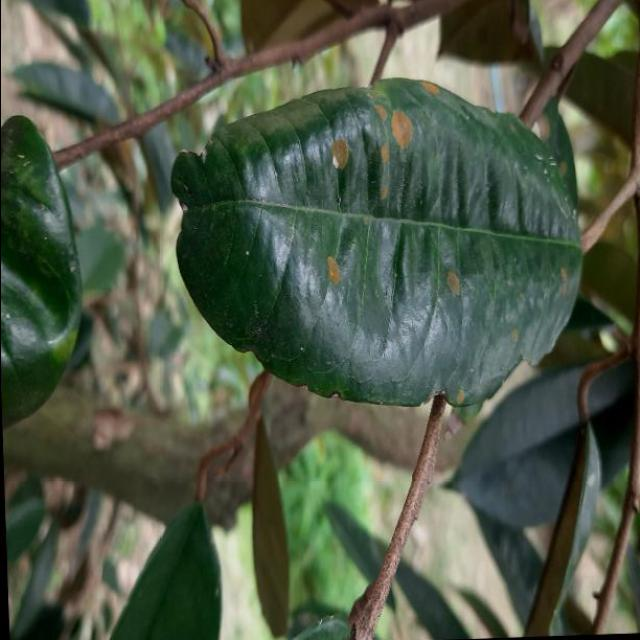Algal Leaf Spot: (170, 68, 594, 418)
